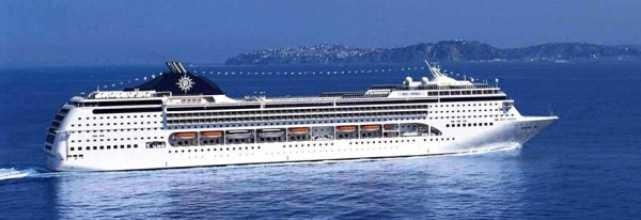youlun: (34, 61, 561, 177)
